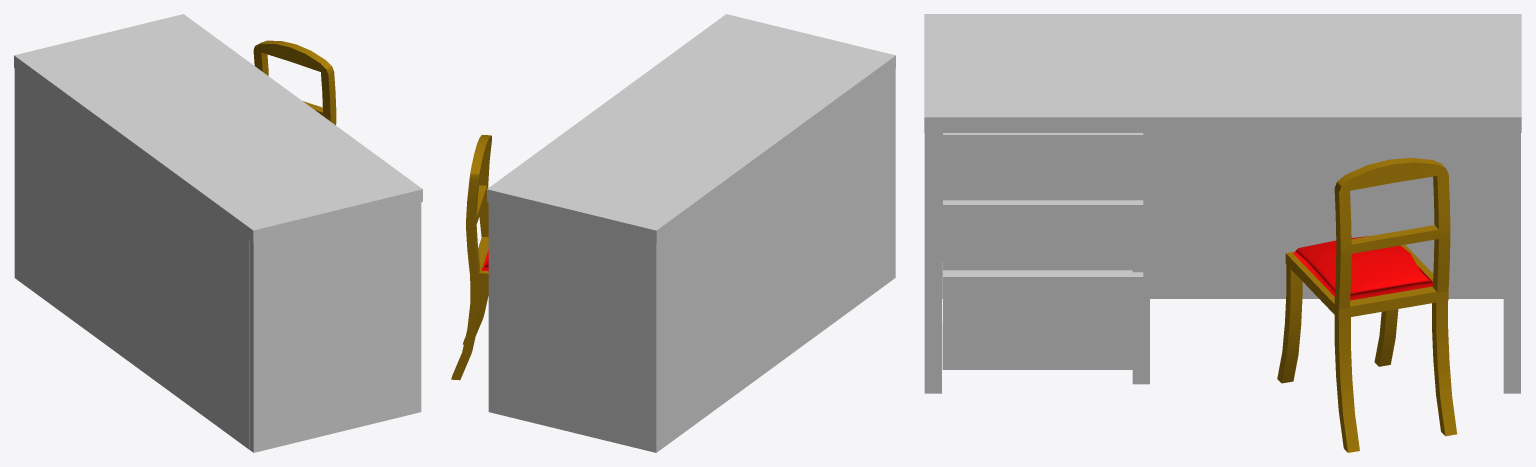
The model's file is Table and chair.fbx.
3 views of the same model, side by side, from view 1: azimuth 30°, elevation 25°; view 2: azimuth 150°, elevation 25°; view 3: azimuth 270°, elevation 25° (orthographic). The views are drawn at different scales.
Visible parts, largest first — view 1: pCube21, polySurface1; view 2: pCube21, polySurface1; view 3: pCube21, polySurface1.
Part boxes in pixels (x1,y1,x2,y2): pCube21: [14, 14, 422, 452]; polySurface1: [253, 40, 336, 125]; pCube21: [487, 14, 895, 452]; polySurface1: [451, 134, 491, 380]; pCube21: [924, 14, 1521, 393]; polySurface1: [1277, 157, 1456, 452].
Size of the model in its own units: 4.76 by 3.89 by 7.53.
